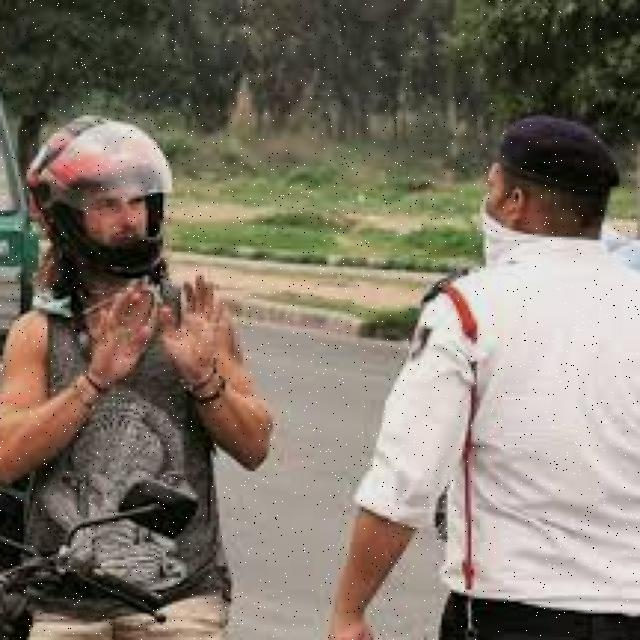with-helmet: (27, 106, 184, 278)
